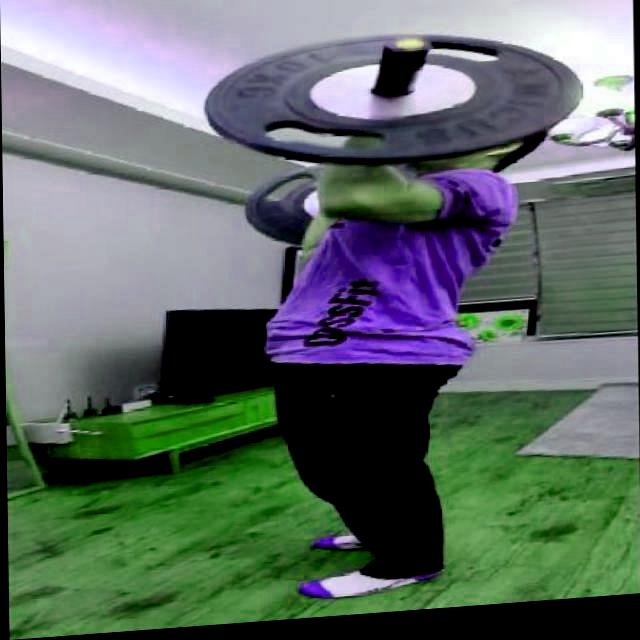barbell: (197, 22, 590, 187)
